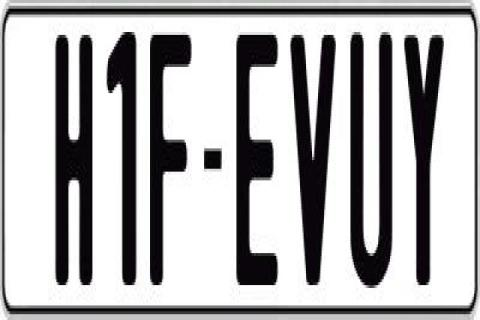0: (104, 29, 134, 288)
E: (236, 32, 276, 291)
F: (149, 26, 197, 276)
H: (54, 29, 98, 279)
U: (348, 32, 394, 291)
V: (290, 26, 338, 282)
Y: (400, 32, 448, 291)
